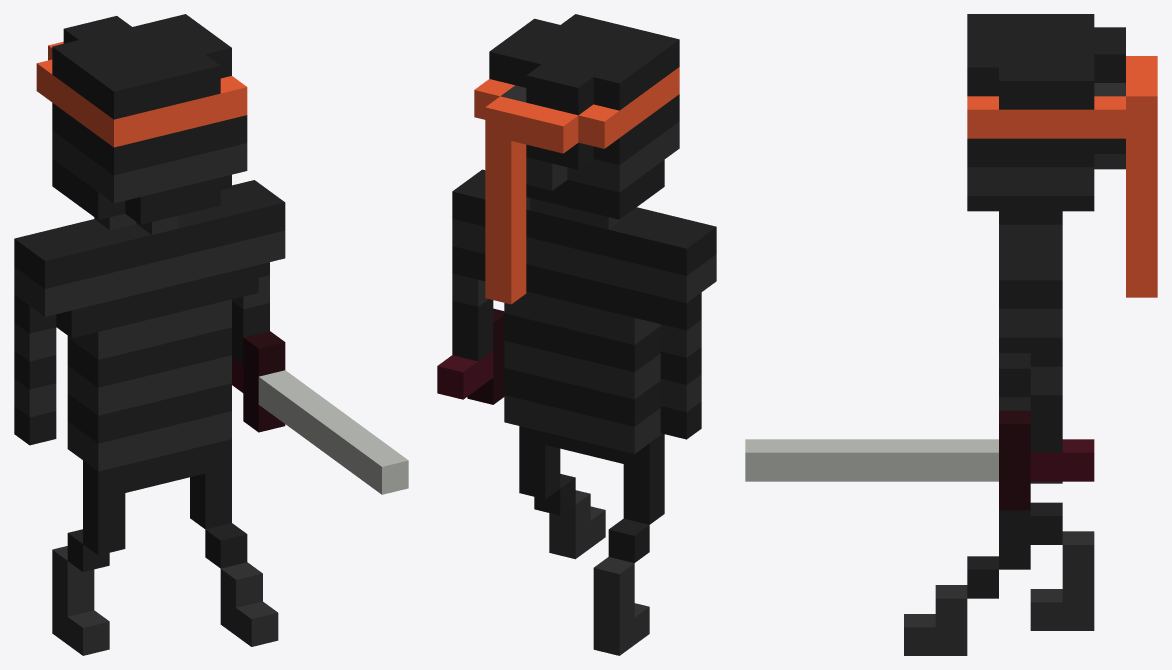
The model's file is SwingingNinjaCharater-2.obj.
3 renders of one model, left to right at view 1: azimuth 30°, elevation 25°; view 2: azimuth 150°, elevation 25°; view 3: azimuth 270°, elevation 25°, orthographic. The views are drawn at different scales.
Visible parts, largest first — view 1: SwingingNinjaCharater-2; view 2: SwingingNinjaCharater-2; view 3: SwingingNinjaCharater-2.
Part boxes in pixels (x1,y1,x2,y2): SwingingNinjaCharater-2: (14,14,408,655); SwingingNinjaCharater-2: (437,14,716,655); SwingingNinjaCharater-2: (745,14,1157,655).
Bounding box in the file's own units: 9 × 21 × 13.
1 material, 1 textured.
